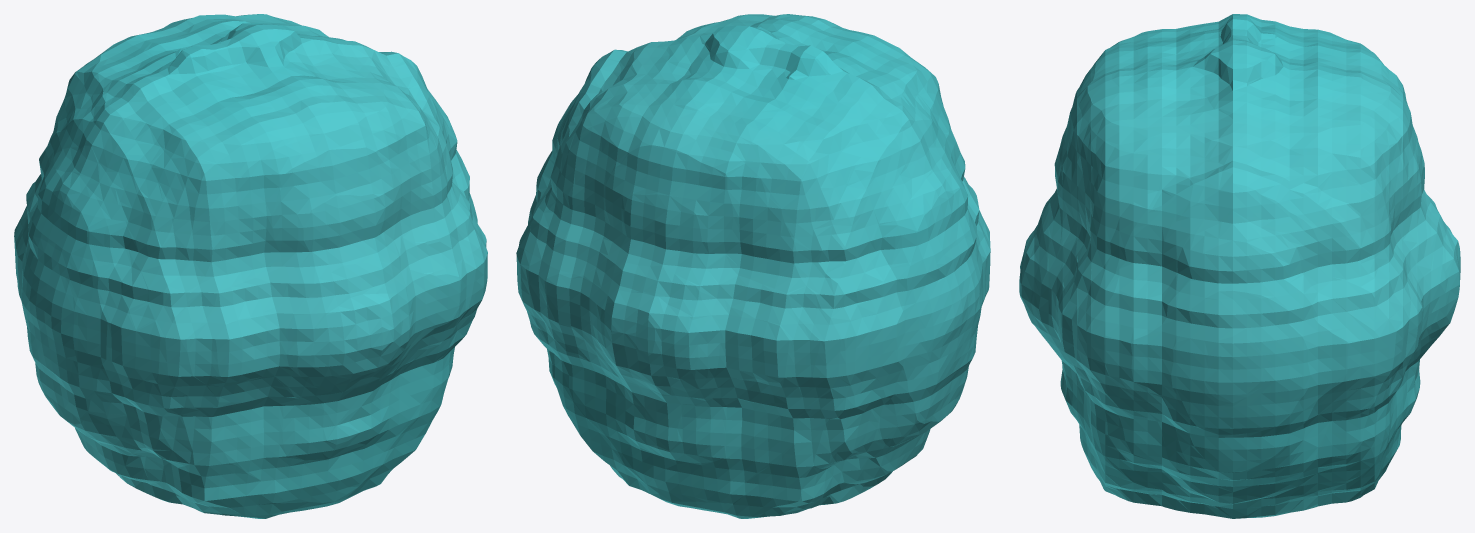
3 views of the same model, side by side, from view 1: azimuth 30°, elevation 25°; view 2: azimuth 150°, elevation 25°; view 3: azimuth 270°, elevation 25° (orthographic).
Visible parts, largest first — view 1: geometry_0; view 2: geometry_0; view 3: geometry_0.
Boxes of the visible parts, bbox=[...] form: geometry_0: bbox=[14, 14, 487, 518]; geometry_0: bbox=[516, 14, 990, 518]; geometry_0: bbox=[1019, 14, 1460, 518].
Bounding box in the file's own units: 1.46 × 1.53 × 1.33.
